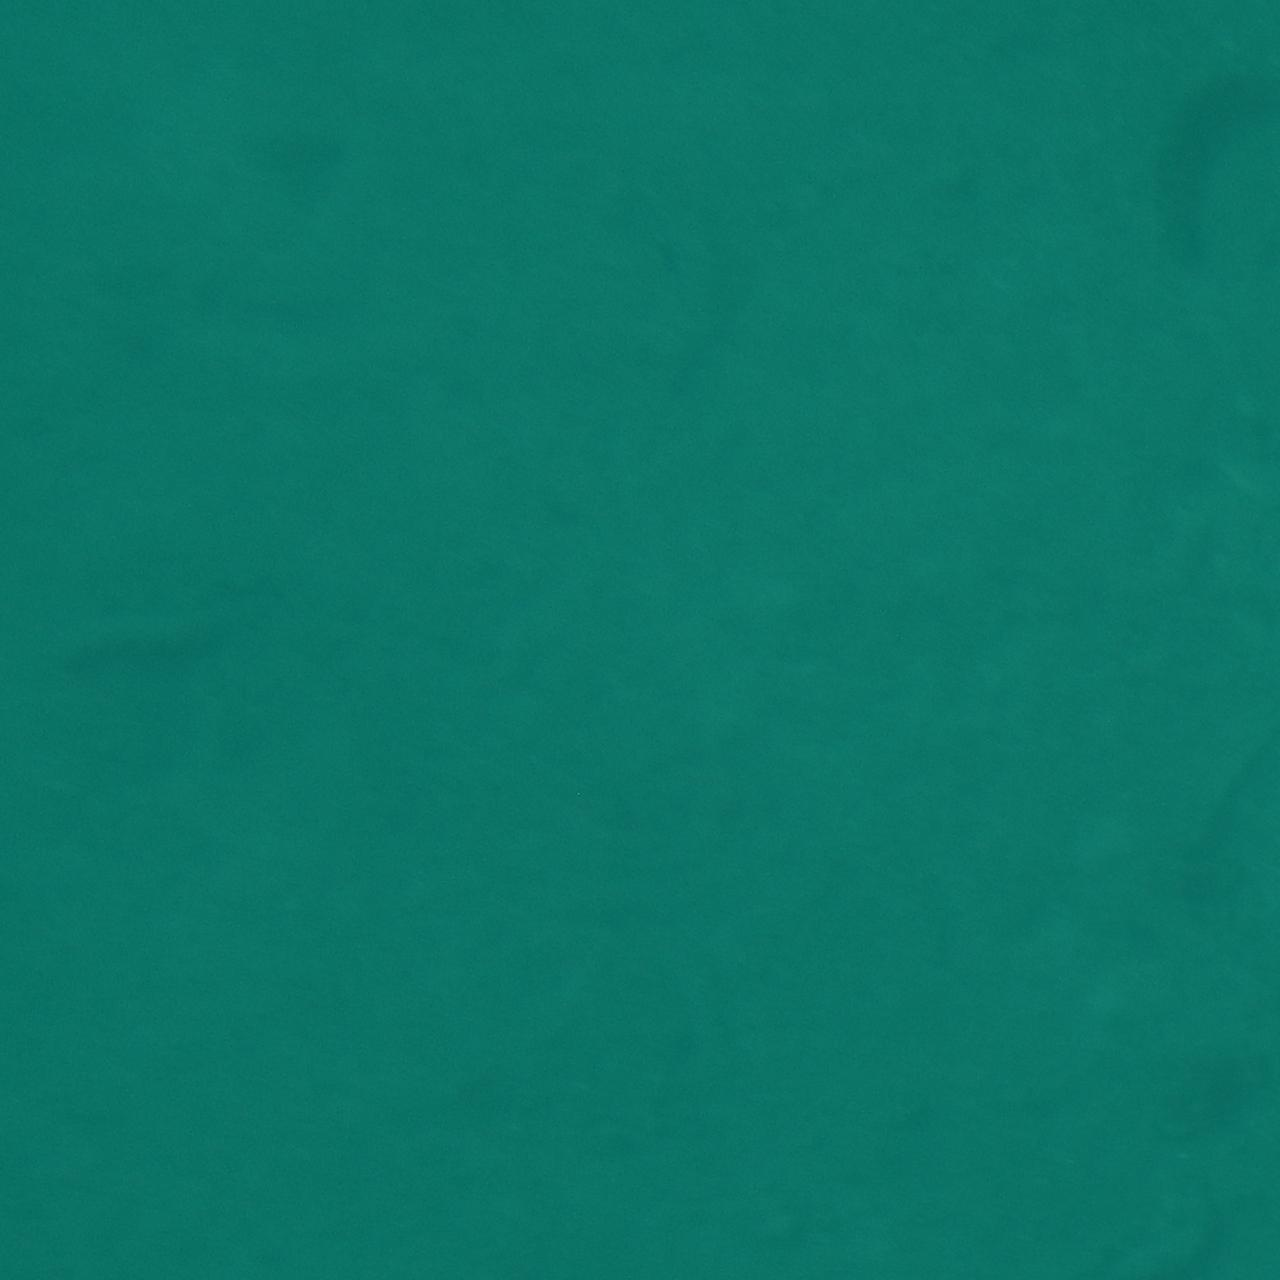Holothuria tubulosa: (0, 592, 236, 688)
